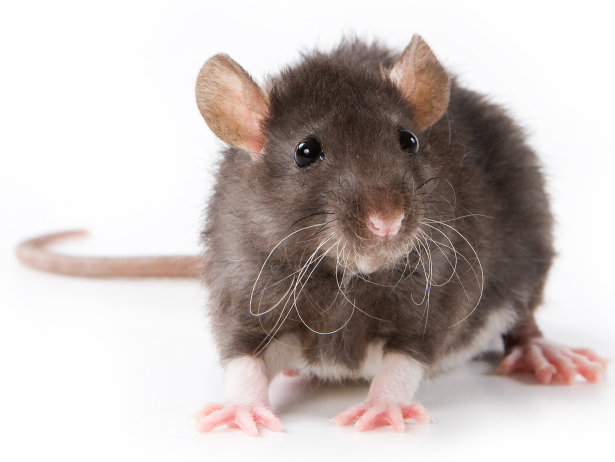rat: (178, 24, 612, 448)
